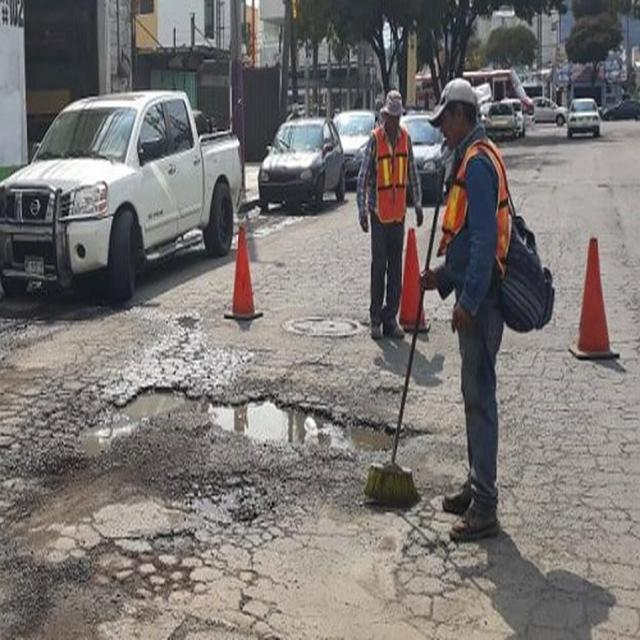pothole: (60, 345, 455, 518)
